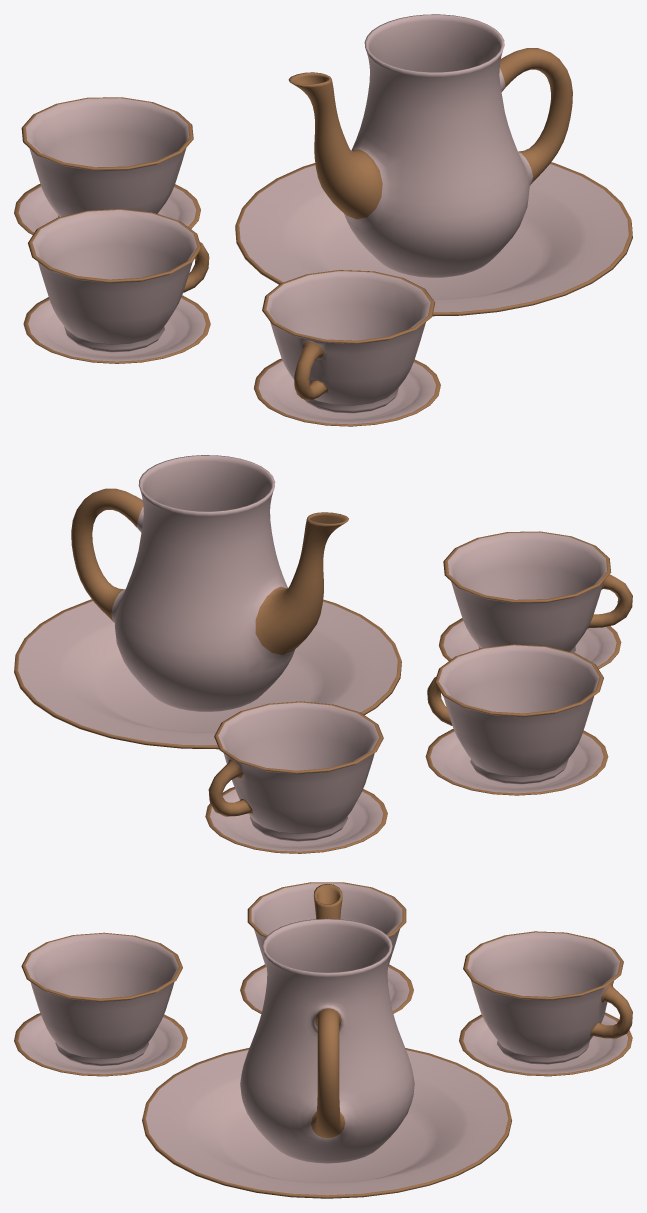
File: tea set.fbx
3 views of the same model, one above another, from view 1: azimuth 30°, elevation 25°; view 2: azimuth 150°, elevation 25°; view 3: azimuth 270°, elevation 25° (orthographic). The views are drawn at different scales.
Parts seen in each view (by area): view 1: tea pot, bigger plate, tea cup, tea cup.002, tea cup.001, tea plate.002, tea plate, tea plate.001; view 2: tea pot, bigger plate, tea cup.001, tea cup, tea cup.002, tea plate, tea plate.001, tea plate.002; view 3: tea pot, bigger plate, tea cup.001, tea cup.002, tea cup, tea plate.002, tea plate.001, tea plate.
Boxes of the visible parts, x1=… form: tea pot: x1=288, y1=14, x2=572, y2=277; bigger plate: x1=235, y1=162, x2=632, y2=316; tea cup: x1=28, y1=209, x2=209, y2=352; tea cup.002: x1=262, y1=270, x2=435, y2=413; tea cup.001: x1=21, y1=97, x2=193, y2=217; tea plate.002: x1=254, y1=358, x2=440, y2=426; tea plate: x1=23, y1=295, x2=210, y2=363; tea plate.001: x1=14, y1=184, x2=200, y2=234; tea pot: x1=71, y1=455, x2=348, y2=711; bigger plate: x1=14, y1=599, x2=401, y2=749; tea cup.001: x1=208, y1=701, x2=383, y2=841; tea cup: x1=427, y1=644, x2=603, y2=784; tea cup.002: x1=443, y1=531, x2=632, y2=652; tea plate: x1=425, y1=729, x2=608, y2=795; tea plate.001: x1=205, y1=787, x2=387, y2=853; tea plate.002: x1=439, y1=618, x2=621, y2=668; tea pot: x1=240, y1=884, x2=414, y2=1163; bigger plate: x1=142, y1=1047, x2=511, y2=1198; tea cup.001: x1=463, y1=931, x2=632, y2=1064; tea cup.002: x1=21, y1=932, x2=182, y2=1066; tea cup: x1=247, y1=882, x2=406, y2=968; tea plate.002: x1=14, y1=1013, x2=187, y2=1076; tea plate.001: x1=459, y1=1012, x2=632, y2=1076; tea plate: x1=240, y1=964, x2=413, y2=1013.
Bounding box in the file's own units: 210 × 75.23 × 213.
